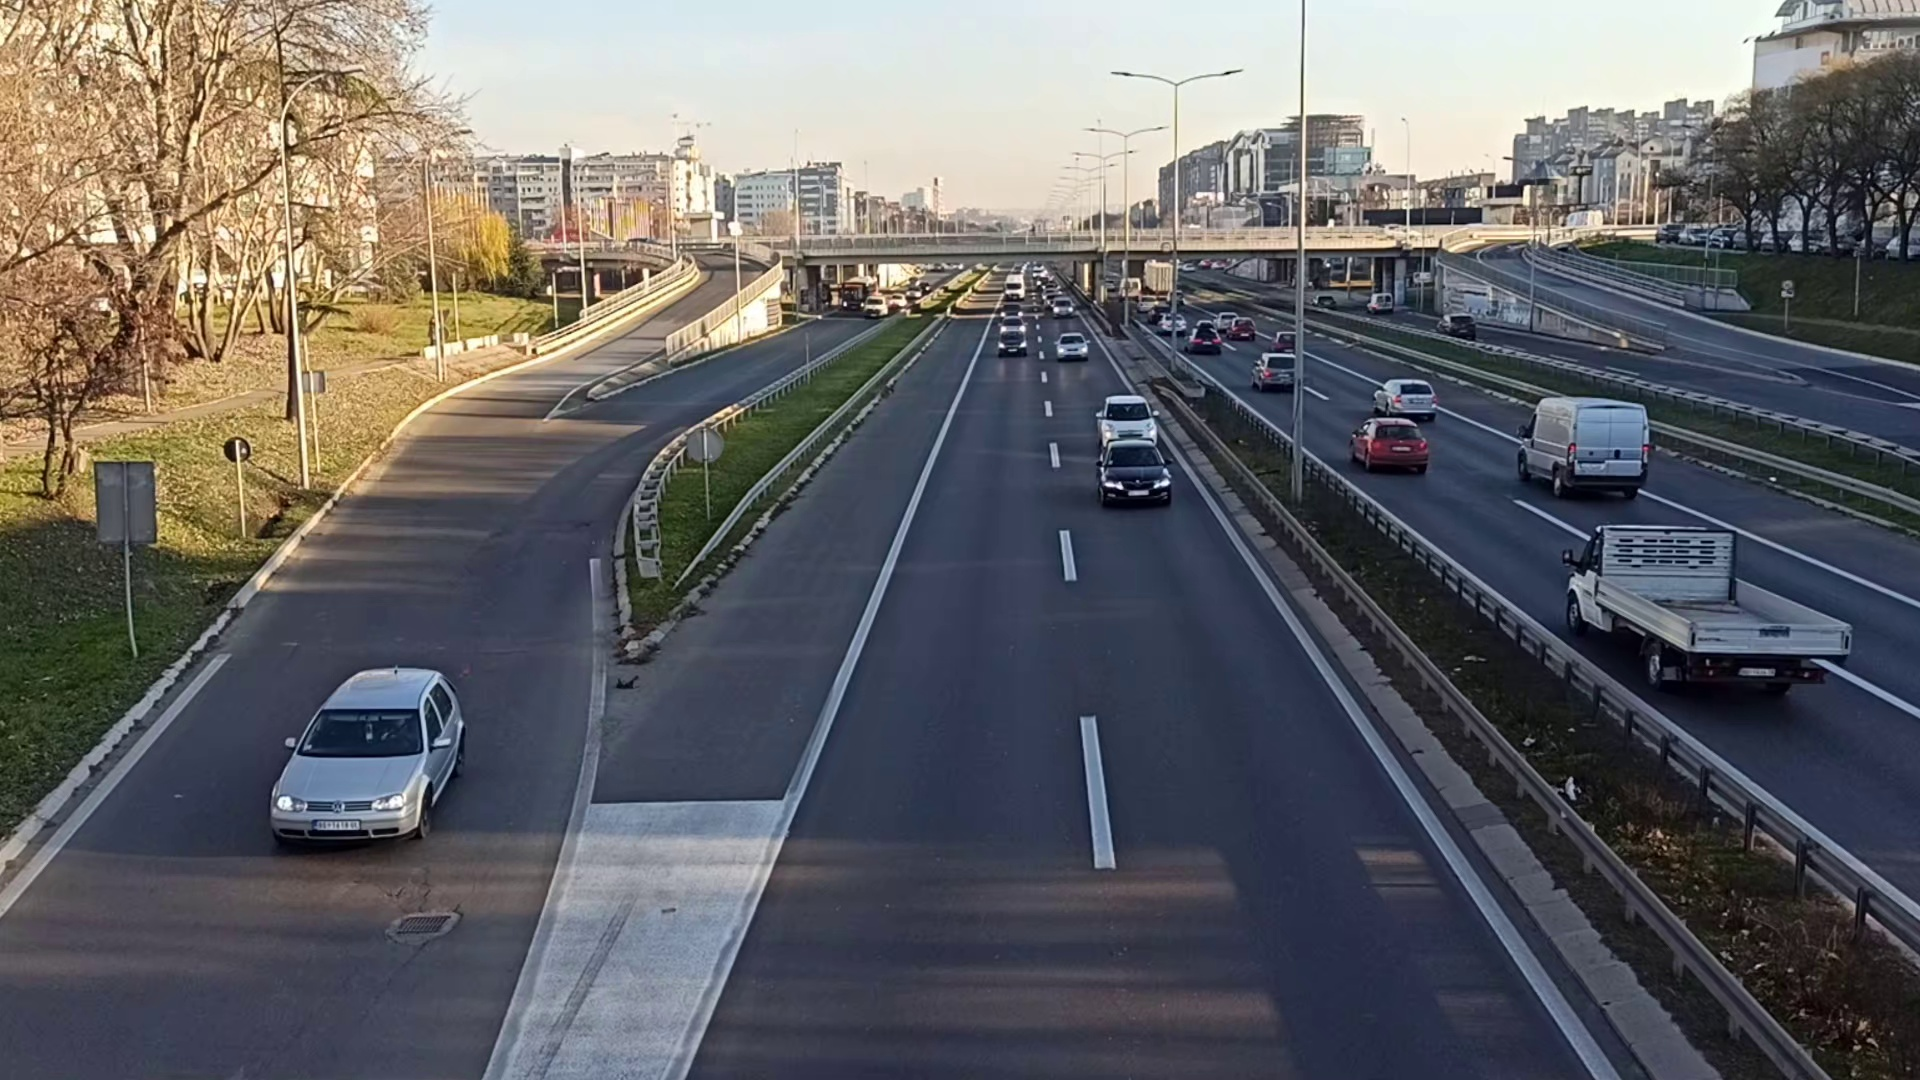car: (268, 666, 465, 855), (1098, 438, 1171, 505), (1349, 415, 1428, 473), (1095, 394, 1156, 444), (1375, 376, 1435, 415), (1251, 349, 1300, 388), (1056, 331, 1091, 359), (998, 336, 1025, 357)
truck: (1563, 520, 1853, 704)
van: (1515, 394, 1650, 500)
